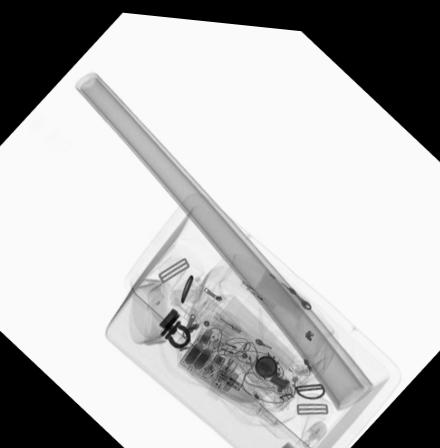Lighter: (238, 273, 276, 304)
